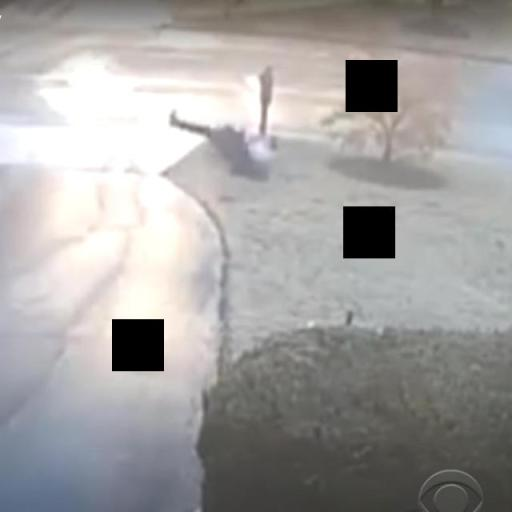Fall: (163, 99, 286, 187)
